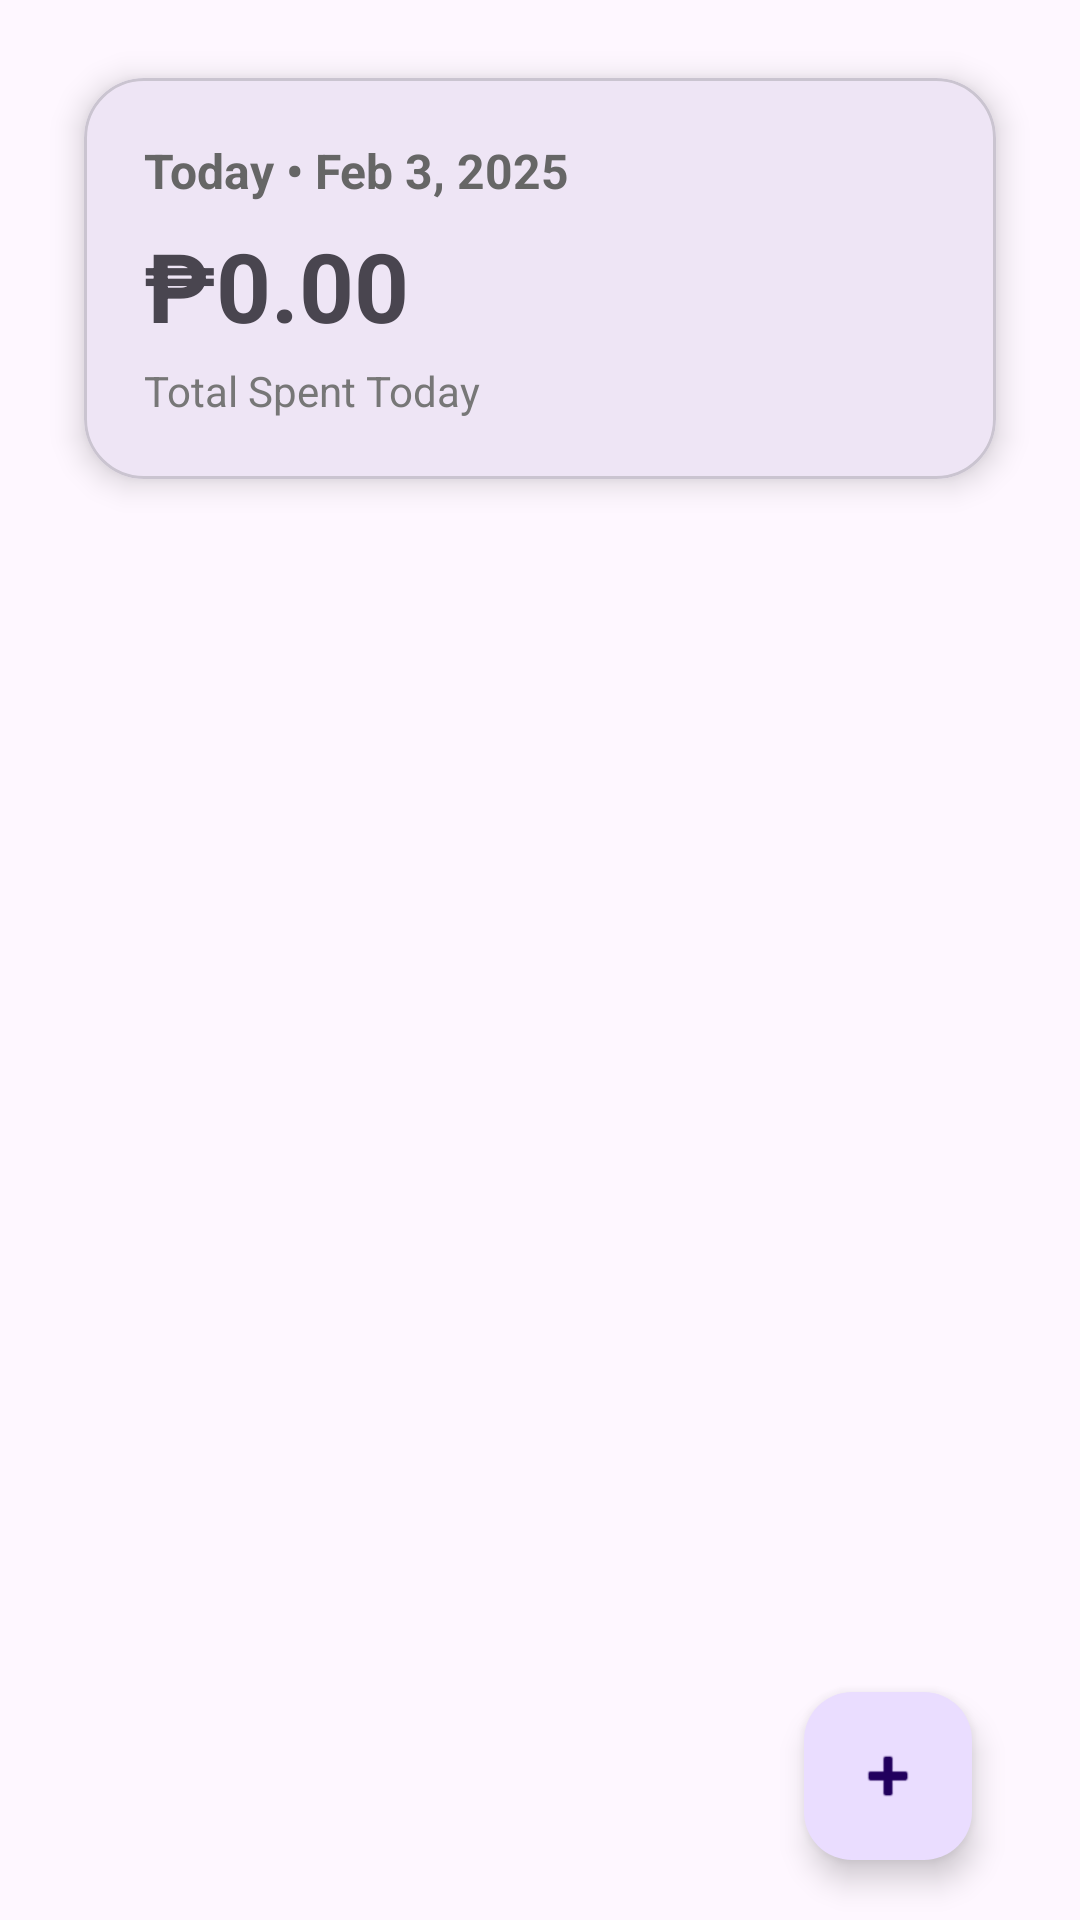

Icon bounding boxes for this 1080 x 1920 phone screenshot, format [x1,y1,x2,y2]:
Add: [804,1692,972,1860]
